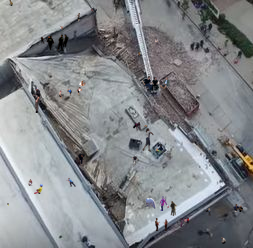Human: (40, 34, 69, 51), (142, 76, 170, 93), (144, 196, 169, 211), (59, 87, 82, 100), (142, 128, 154, 152), (32, 87, 41, 113), (155, 218, 168, 231), (13, 179, 33, 186), (170, 201, 177, 216), (178, 218, 189, 227), (34, 184, 43, 194), (66, 178, 76, 187), (78, 152, 85, 164), (156, 148, 166, 156), (234, 204, 243, 212), (132, 155, 138, 167), (133, 122, 141, 131), (203, 208, 211, 216), (79, 80, 87, 86), (75, 13, 80, 22), (221, 237, 226, 244), (91, 8, 97, 12), (9, 0, 13, 6), (138, 52, 142, 56), (155, 38, 158, 43), (60, 26, 63, 31), (7, 203, 9, 206), (144, 125, 147, 127), (160, 144, 162, 147), (136, 184, 137, 185)
